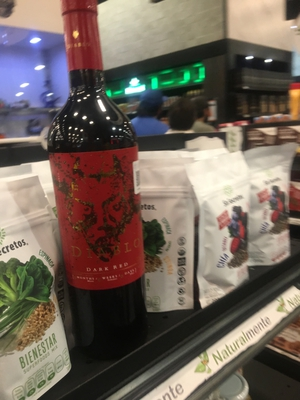diablo dark red: (39, 1, 159, 321)
